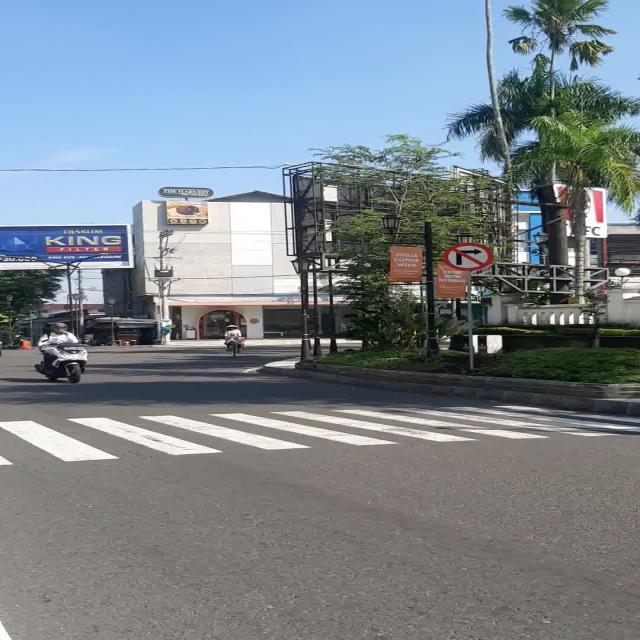Dilarang Belok Kanan: (444, 243, 492, 270)
